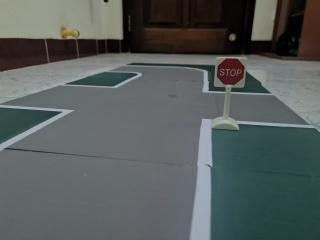stop: (214, 56, 247, 92)
